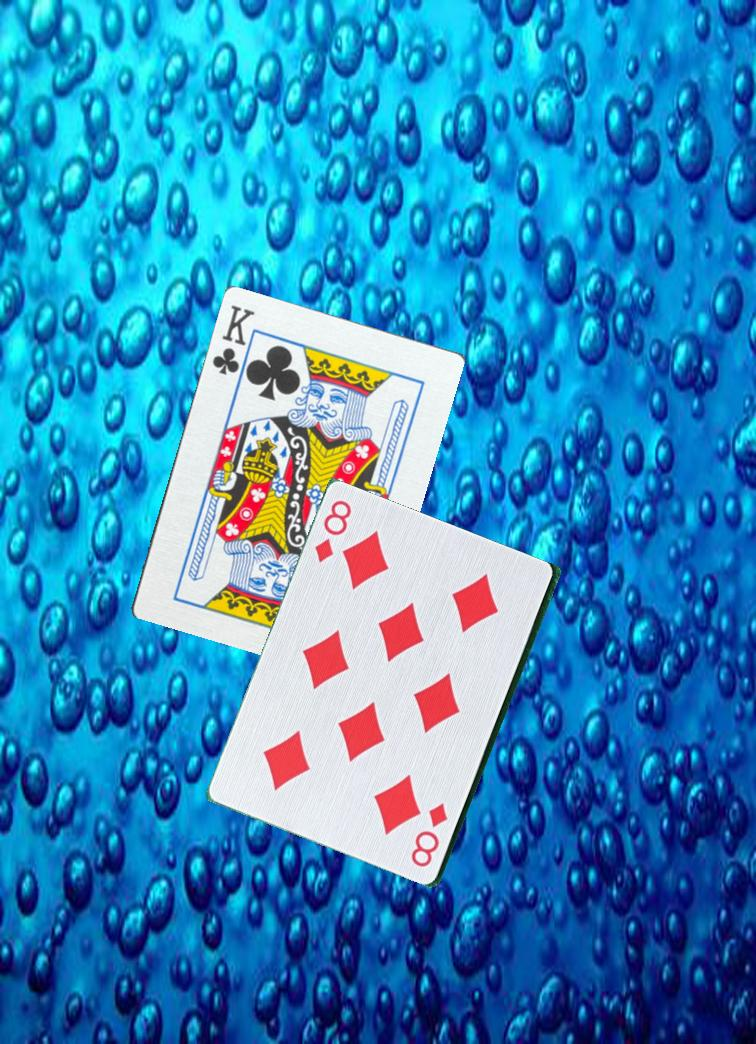8d: (408, 800, 451, 879), (310, 497, 355, 567)
kc: (208, 298, 257, 378)
